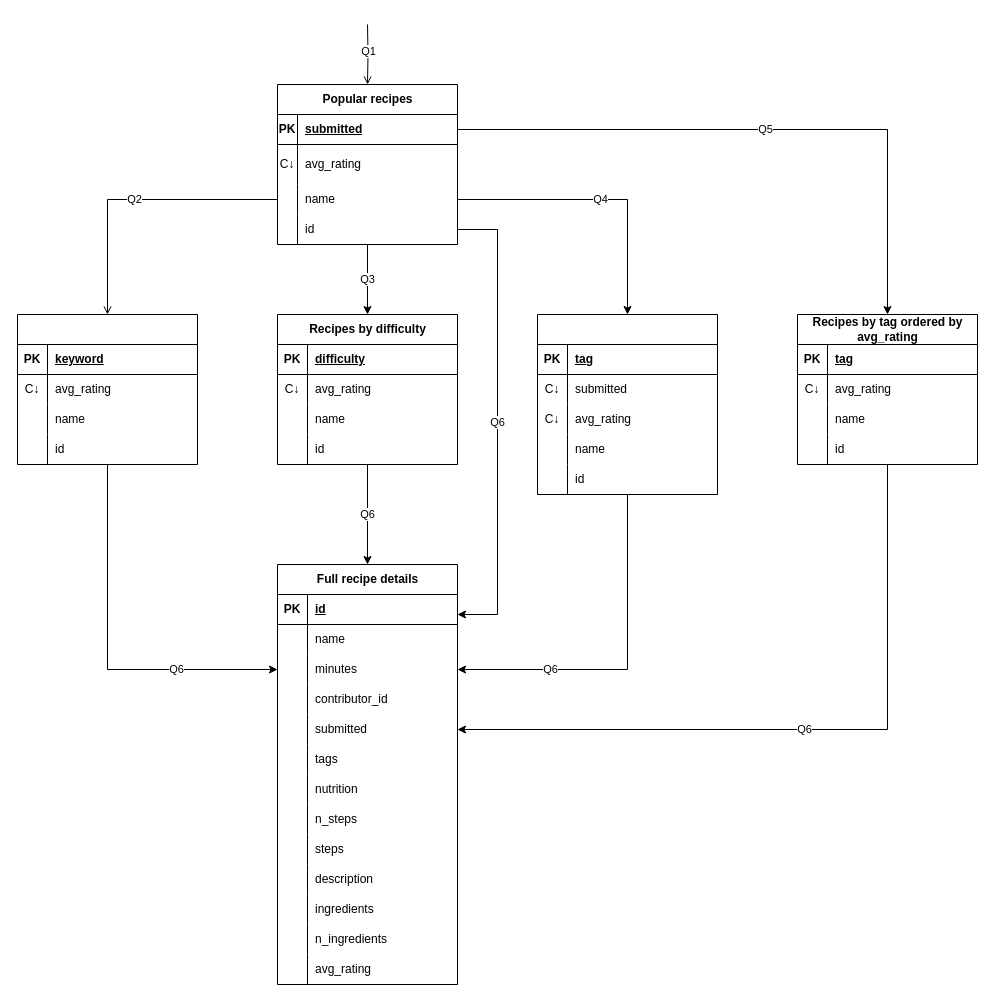
Image size: 995x1002. Some labels were removed from this diagram. The box of each missing label's shape, as (x1, y1, x2, y2) in pixels:
Recipes by keyword: (16, 314, 198, 464)
Recipes by tag ordered by submitted date: (536, 314, 718, 494)
